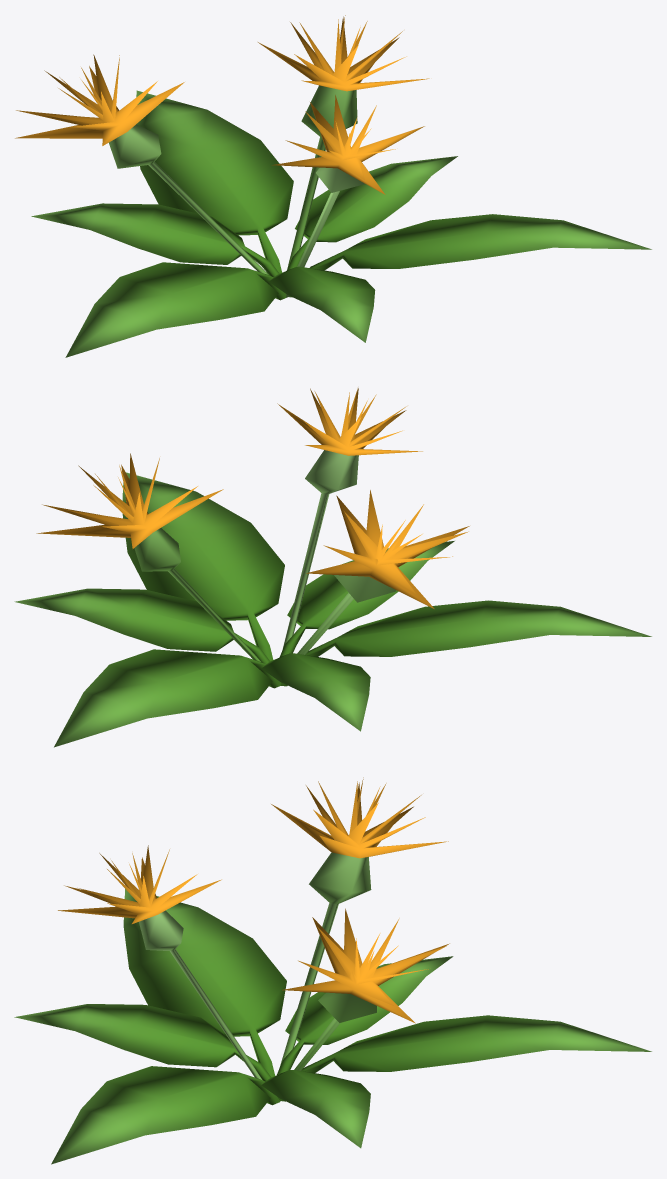
3 renders of one model, top to bottom at view 1: azimuth 30°, elevation 25°; view 2: azimuth 150°, elevation 25°; view 3: azimuth 270°, elevation 25°, orthographic. The views are drawn at different scales.
Parts seen in each view (by area): view 1: fp17; view 2: fp17; view 3: fp17.
Part boxes in pixels (x1,y1,x2,y2): fp17: (15, 15, 651, 357); fp17: (14, 388, 651, 747); fp17: (14, 777, 651, 1164).
Bounding box in the file's own units: 78.39 × 31.63 × 76.37.
